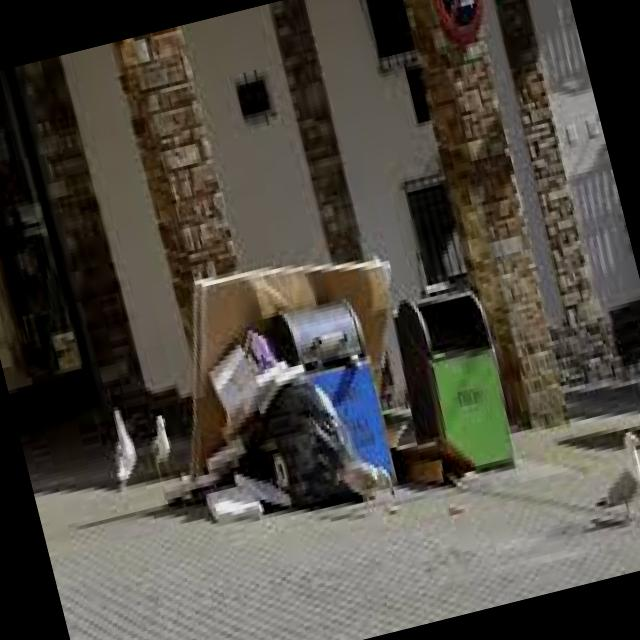garbage: (140, 206, 546, 548)
